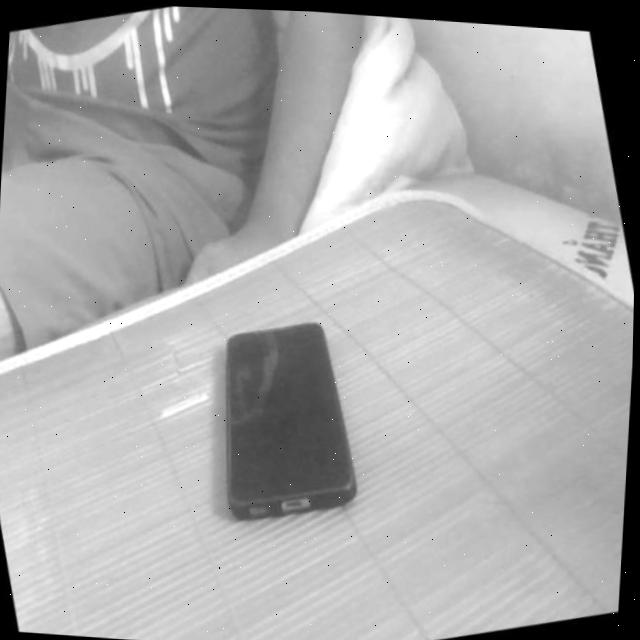phone: (168, 280, 394, 559)
